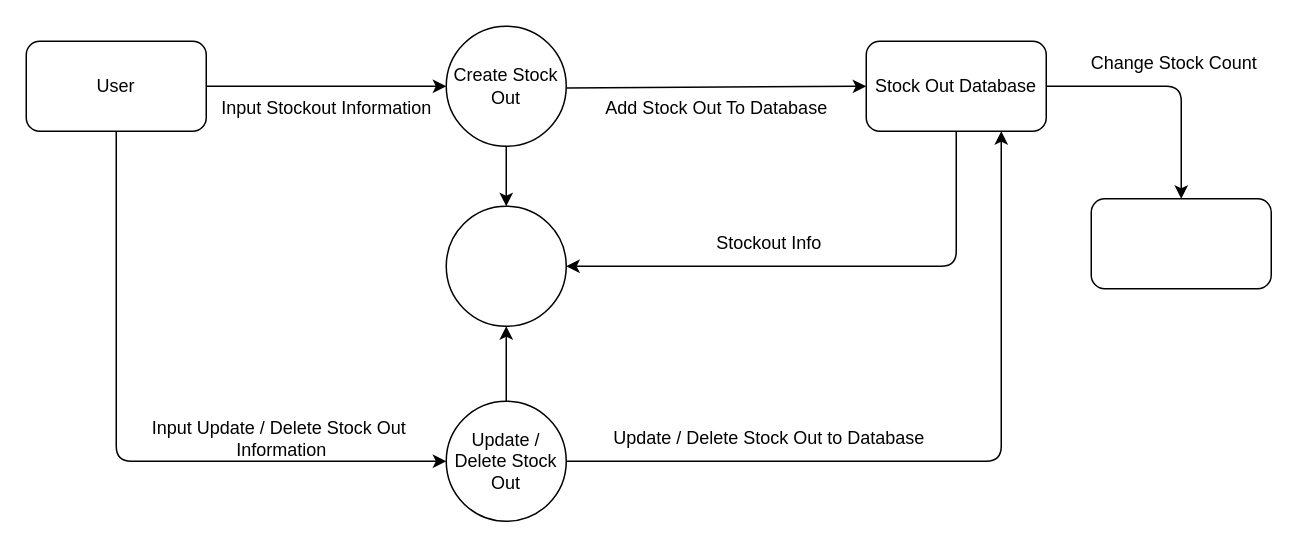
Image size: 1298x548. Some labels were removed from this diagram. The shapes that lost their labels are listed below. From the top down, each one's centre as x and y in pixels, then its label:
[1180,243]: Product Database
[505,265]: View Stock Out
